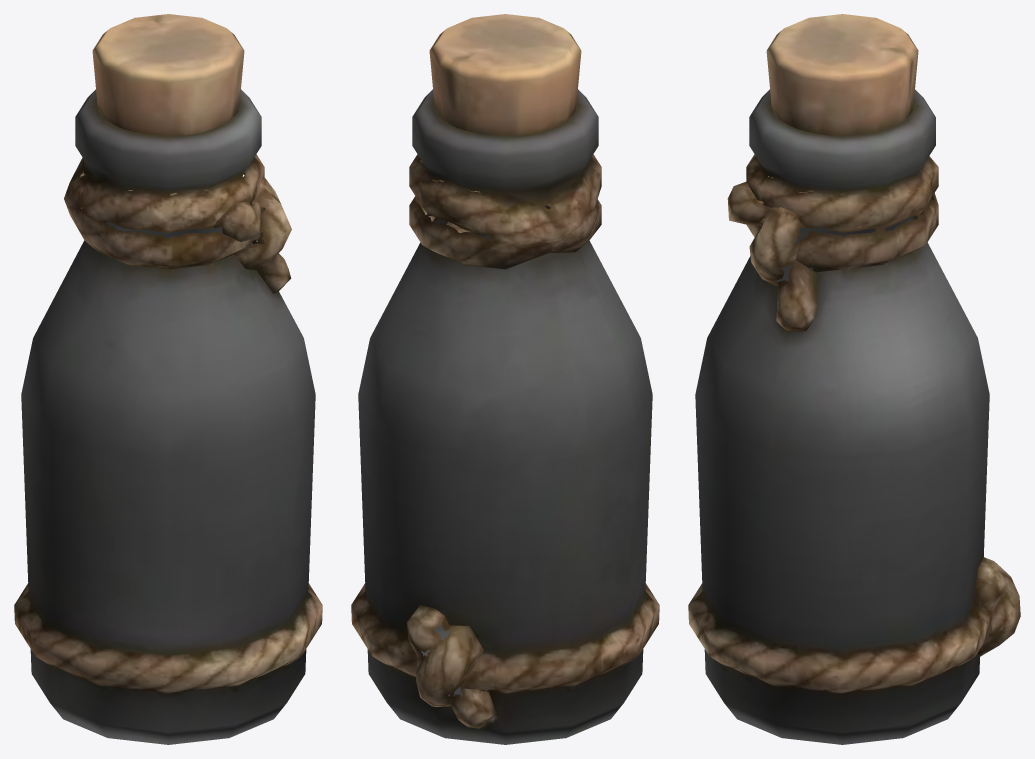
3 renders of one model, left to right at view 1: azimuth 30°, elevation 25°; view 2: azimuth 150°, elevation 25°; view 3: azimuth 270°, elevation 25°, orthographic.
Parts seen in each view (by area): view 1: SM_Lesser_Black_Potion_LOD0; view 2: SM_Lesser_Black_Potion_LOD0; view 3: SM_Lesser_Black_Potion_LOD0.
Boxes of the visible parts, x1,y1,x2,y2 form: SM_Lesser_Black_Potion_LOD0: [14, 14, 322, 744]; SM_Lesser_Black_Potion_LOD0: [351, 14, 659, 744]; SM_Lesser_Black_Potion_LOD0: [688, 14, 1020, 744].
Bounding box in the file's own units: 0.1019 × 0.2372 × 0.1098.
Materials: 1 (1 with a texture image).
